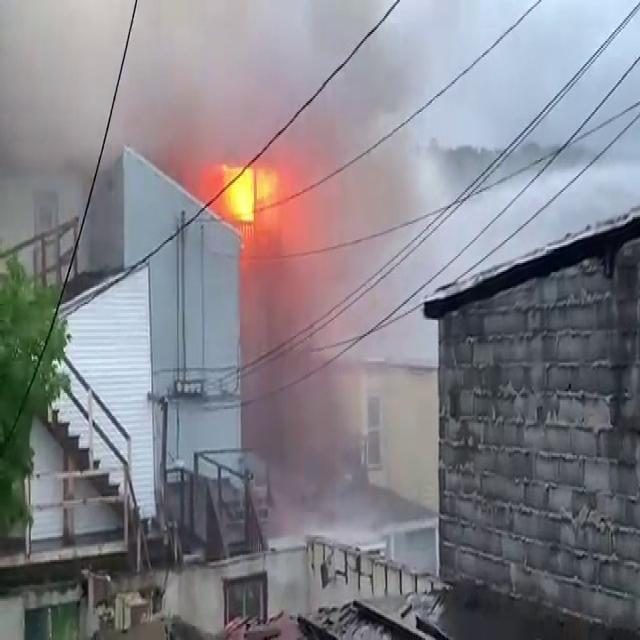Fire: (206, 151, 290, 235)
Smoke: (212, 5, 459, 490), (2, 0, 284, 196)
